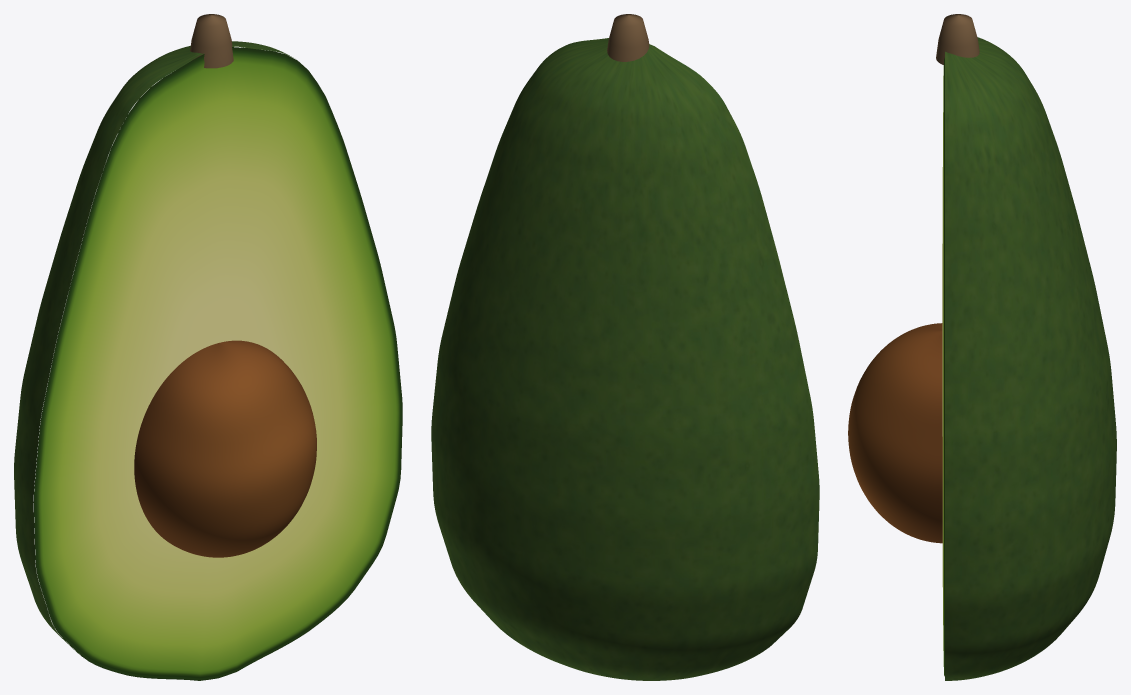
Rendered from Avocado-3D.glb.
3 views of the same model, side by side, from view 1: azimuth 30°, elevation 25°; view 2: azimuth 150°, elevation 25°; view 3: azimuth 270°, elevation 25° (orthographic).
Visible parts, largest first — view 1: Avocado half; view 2: Avocado half; view 3: Avocado half.
Part boxes in pixels (<box>): Avocado half: <box>14,14,402,680</box>; Avocado half: <box>431,14,819,680</box>; Avocado half: <box>848,14,1116,680</box>.
Bounding box in the file's own units: 1.6 × 2.72 × 1.02.
4 materials, 1 textured.
